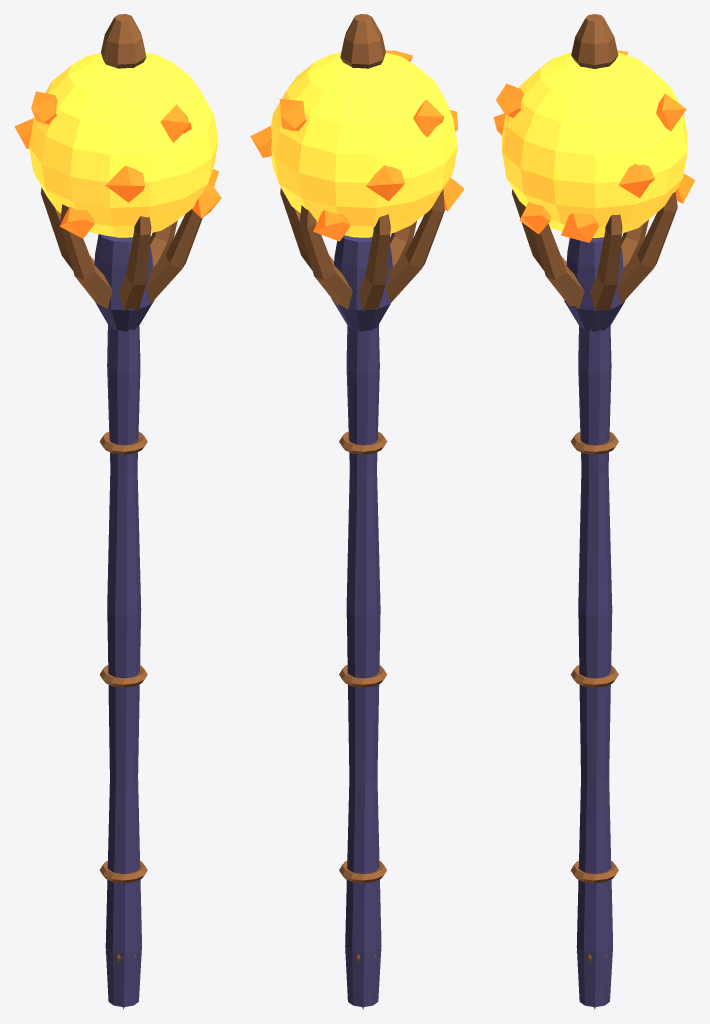
The model's file is staff_amberlantern.glb.
3 renders of one model, left to right at view 1: azimuth 30°, elevation 25°; view 2: azimuth 150°, elevation 25°; view 3: azimuth 270°, elevation 25°, orthographic.
Parts seen in each view (by area): view 1: Al_Orb, Al_Shaft, Al_Neck, Al_Claw5, Al_Cap, Al_Claw4, Al_Claw3, Al_Facet7, Al_Facet6, Al_Facet5, Al_Facet8, Al_Claw2 (+5 smaller); view 2: Al_Orb, Al_Shaft, Al_Neck, Al_Claw3, Al_Claw1, Al_Cap, Al_Claw2, Al_Facet4, Al_Facet3, Al_Facet2, Al_Facet5, Al_Claw0 (+4 smaller); view 3: Al_Orb, Al_Shaft, Al_Neck, Al_Claw1, Al_Cap, Al_Claw0, Al_Claw5, Al_Facet0, Al_Facet1, Al_Claw2, Al_Facet2, Al_Facet8 (+5 smaller).
Boxes of the visible parts, x1=… form: Al_Orb: x1=29, y1=52, x2=218, y2=237; Al_Shaft: x1=105, y1=325, x2=141, y2=1006; Al_Neck: x1=94, y1=234, x2=154, y2=331; Al_Claw5: x1=147, y1=209, x2=202, y2=304; Al_Cap: x1=101, y1=14, x2=146, y2=68; Al_Claw4: x1=118, y1=216, x2=151, y2=311; Al_Claw3: x1=60, y1=204, x2=112, y2=308; Al_Facet7: x1=105, y1=165, x2=144, y2=202; Al_Facet6: x1=59, y1=206, x2=94, y2=238; Al_Facet5: x1=31, y1=91, x2=57, y2=124; Al_Facet8: x1=160, y1=104, x2=191, y2=142; Al_Claw2: x1=40, y1=187, x2=94, y2=270; Al_Orb: x1=271, y1=52, x2=457, y2=237; Al_Shaft: x1=345, y1=324, x2=381, y2=1006; Al_Neck: x1=331, y1=235, x2=392, y2=331; Al_Claw3: x1=386, y1=189, x2=444, y2=302; Al_Claw1: x1=299, y1=205, x2=352, y2=309; Al_Cap: x1=340, y1=14, x2=385, y2=68; Al_Claw2: x1=358, y1=214, x2=390, y2=311; Al_Facet4: x1=366, y1=165, x2=404, y2=201; Al_Facet3: x1=313, y1=210, x2=350, y2=241; Al_Facet2: x1=279, y1=99, x2=306, y2=131; Al_Facet5: x1=413, y1=99, x2=444, y2=137; Al_Claw0: x1=280, y1=188, x2=333, y2=270; Al_Orb: x1=502, y1=52, x2=687, y2=237; Al_Shaft: x1=576, y1=326, x2=612, y2=1006; Al_Neck: x1=564, y1=237, x2=624, y2=331; Al_Claw1: x1=617, y1=192, x2=677, y2=304; Al_Cap: x1=571, y1=14, x2=618, y2=68; Al_Claw0: x1=590, y1=214, x2=622, y2=310; Al_Claw5: x1=533, y1=223, x2=584, y2=308; Al_Facet0: x1=561, y1=212, x2=599, y2=242; Al_Facet1: x1=618, y1=163, x2=654, y2=197; Al_Claw2: x1=621, y1=220, x2=648, y2=267; Al_Facet2: x1=656, y1=93, x2=686, y2=131; Al_Facet8: x1=496, y1=83, x2=523, y2=117.
Bounding box in the file's own units: 0.3906 × 2.13 × 0.3931.
